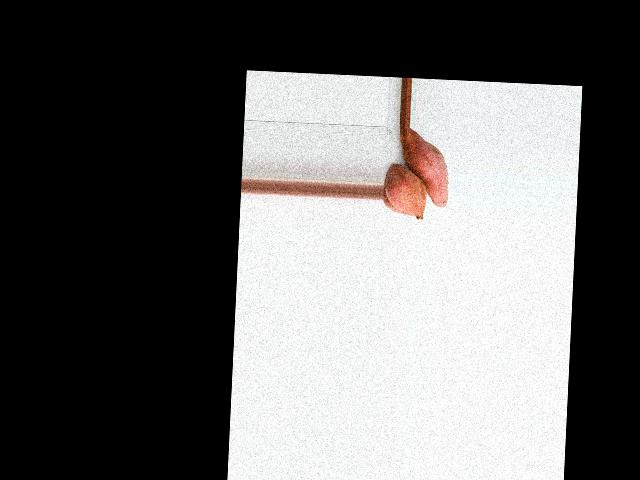sweet_potato: (387, 166, 423, 220)
